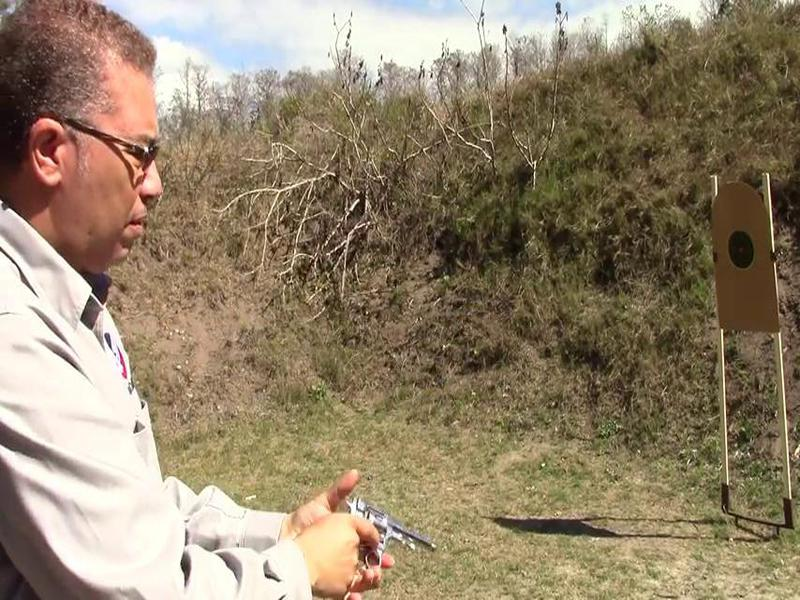Revolver: (307, 487, 433, 594)
